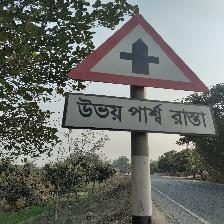Crossroad: (57, 5, 223, 142)
